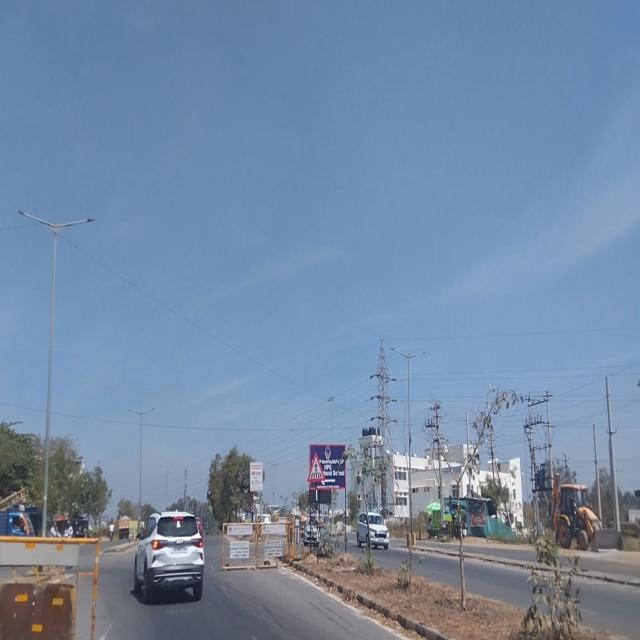bien_nguy_hiem: (306, 452, 326, 483)
